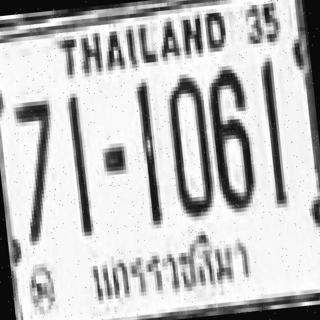N00: (163, 72, 214, 214)
N01: (258, 58, 285, 204), (135, 80, 162, 223), (65, 95, 92, 234)
N06: (205, 64, 255, 210)
N07: (12, 96, 60, 242)
P30: (87, 228, 256, 306)
